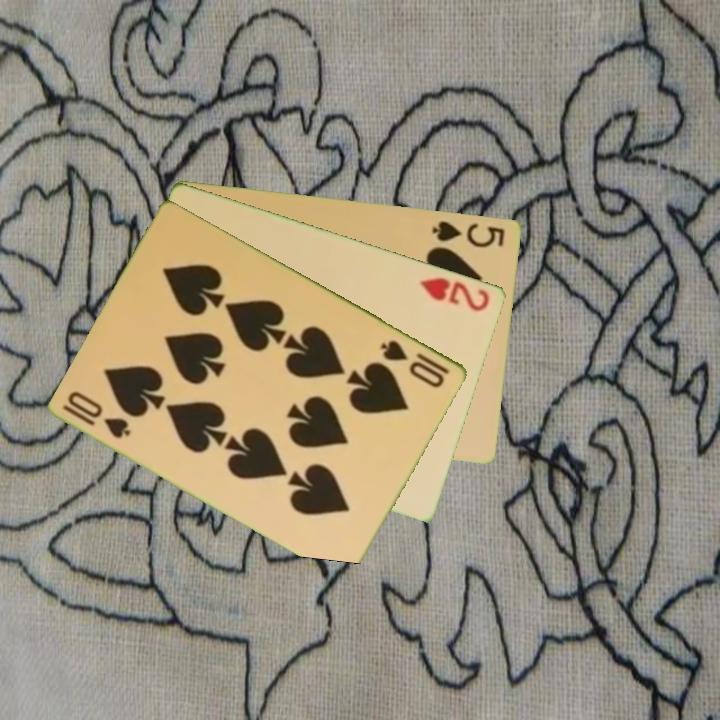10s: (377, 336, 453, 391), (59, 387, 134, 442)
2h: (417, 273, 493, 314)
5s: (429, 216, 508, 250)
